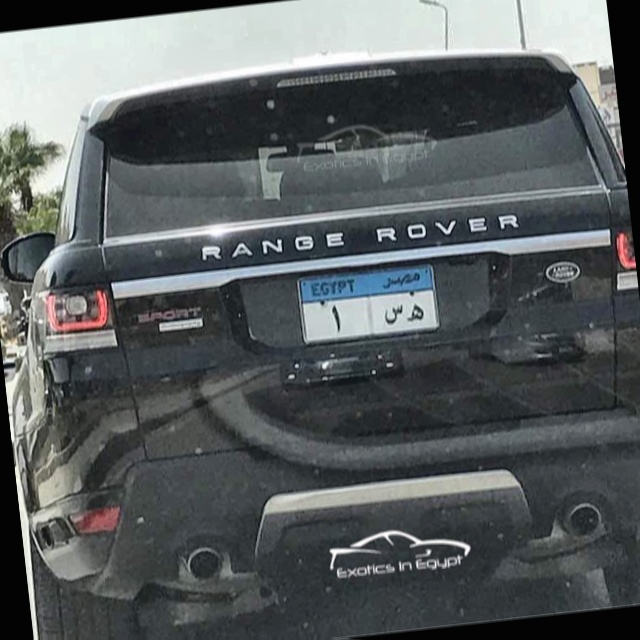License Plate: (290, 259, 446, 351)
